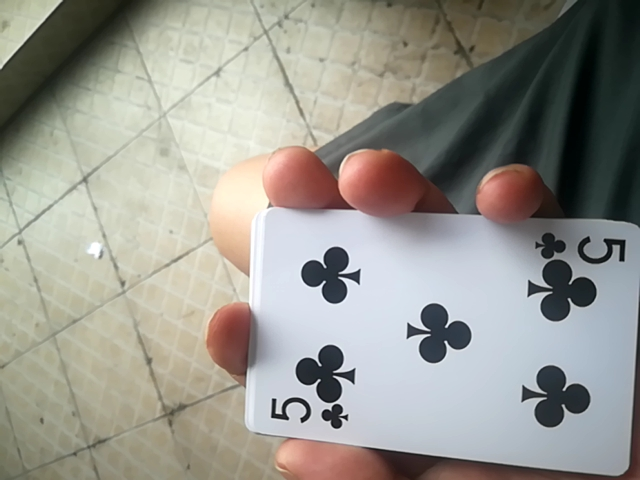mh 5: (248, 209, 640, 473)
